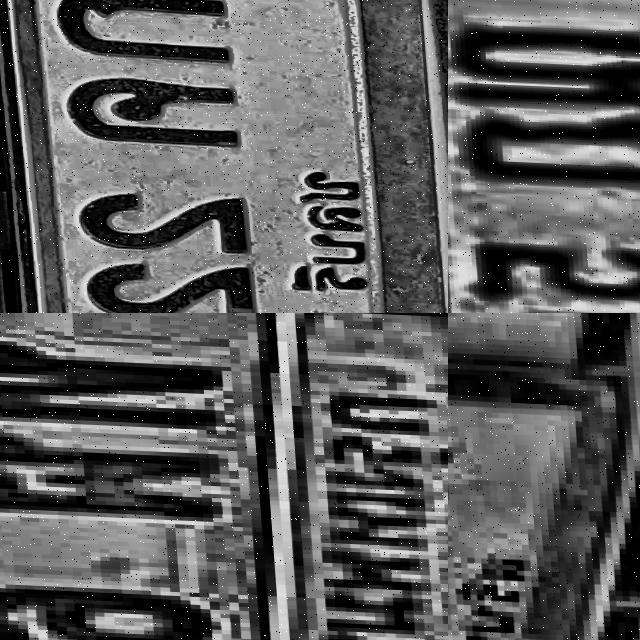license-plate: (0, 313, 448, 640), (0, 0, 448, 313), (448, 313, 640, 640), (448, 0, 640, 313)
